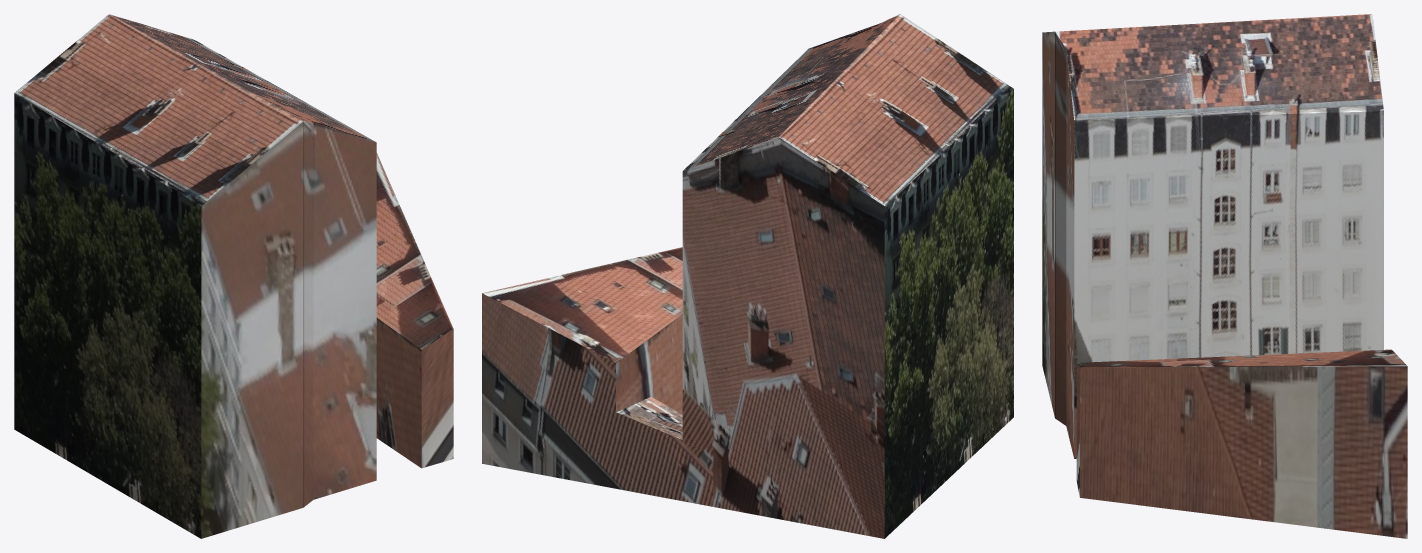
The picture shows the model from 3 angles, left to right: view 1: azimuth 30°, elevation 25°; view 2: azimuth 150°, elevation 25°; view 3: azimuth 270°, elevation 25°; orthographic projection.
Parts seen in each view (by area): view 1: Z_UP; view 2: Z_UP; view 3: Z_UP.
Part boxes in pixels (box(x1,y1,x2,y2)): Z_UP: box(14, 14, 453, 538); Z_UP: box(482, 14, 1013, 538); Z_UP: box(1042, 14, 1407, 538).
Bounding box in the file's own units: 27.59 × 26.58 × 22.75.
2 materials, 1 textured.
